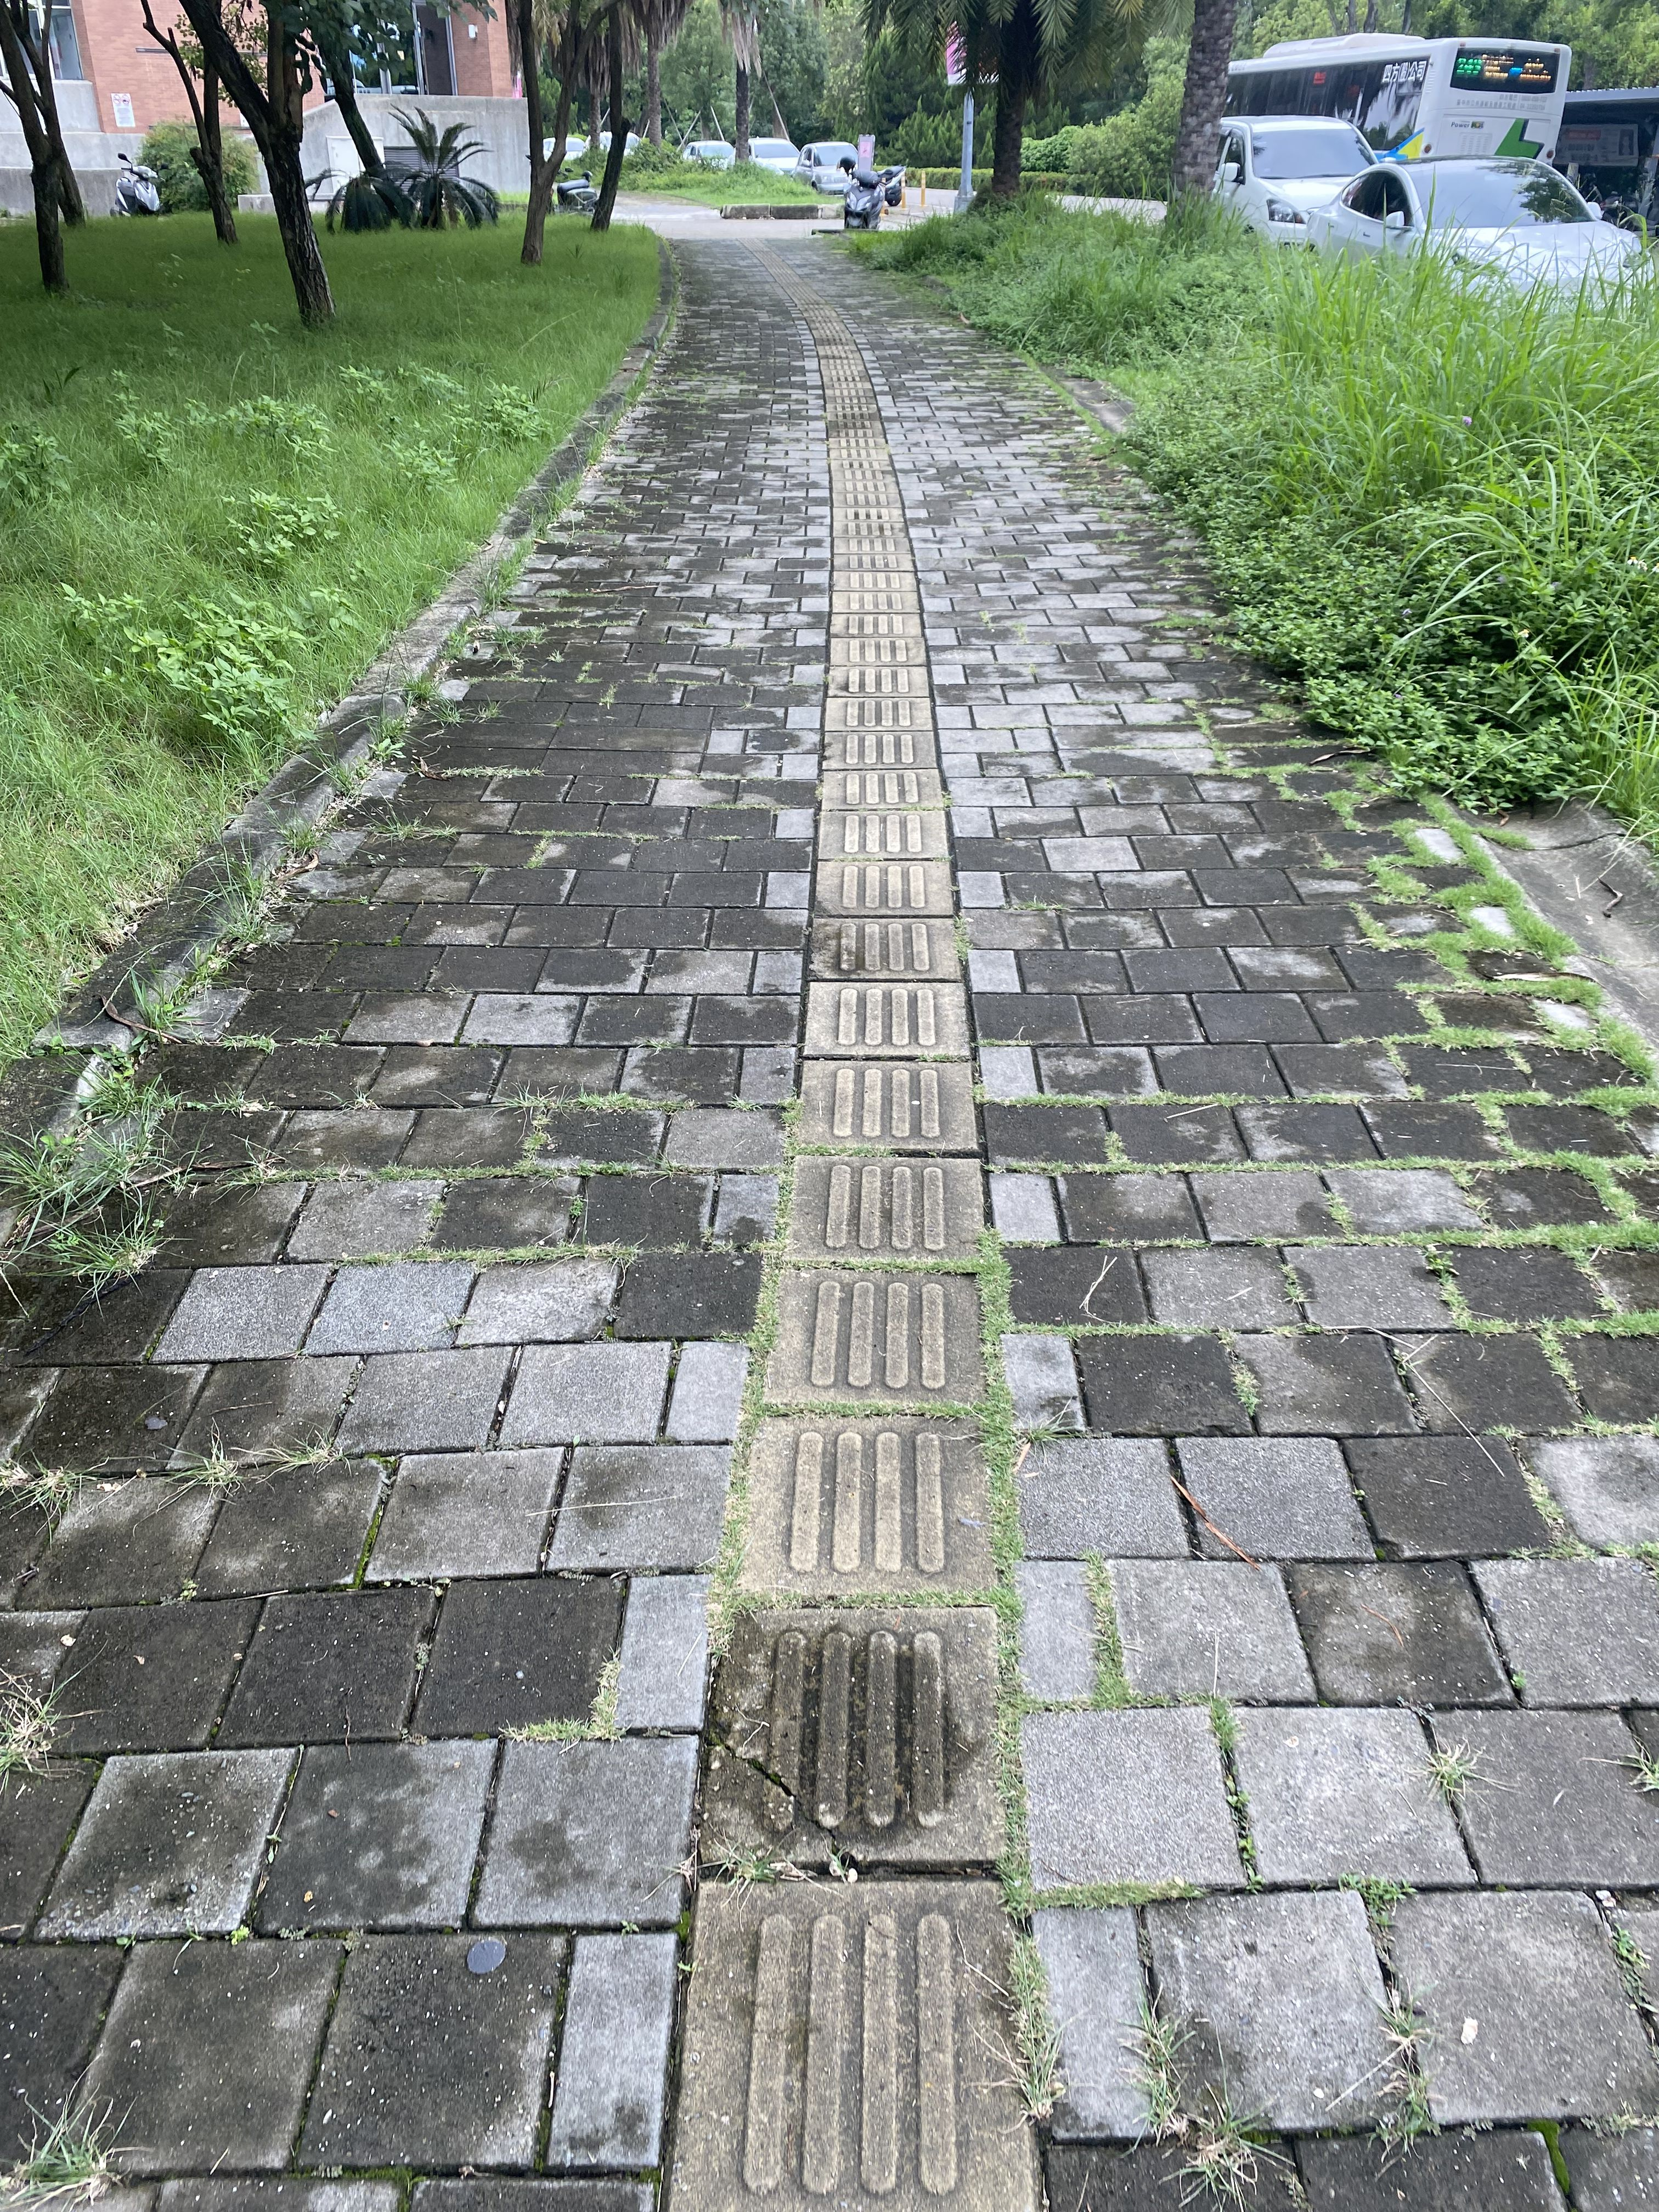sidewalk: (0, 188, 1659, 2212)
